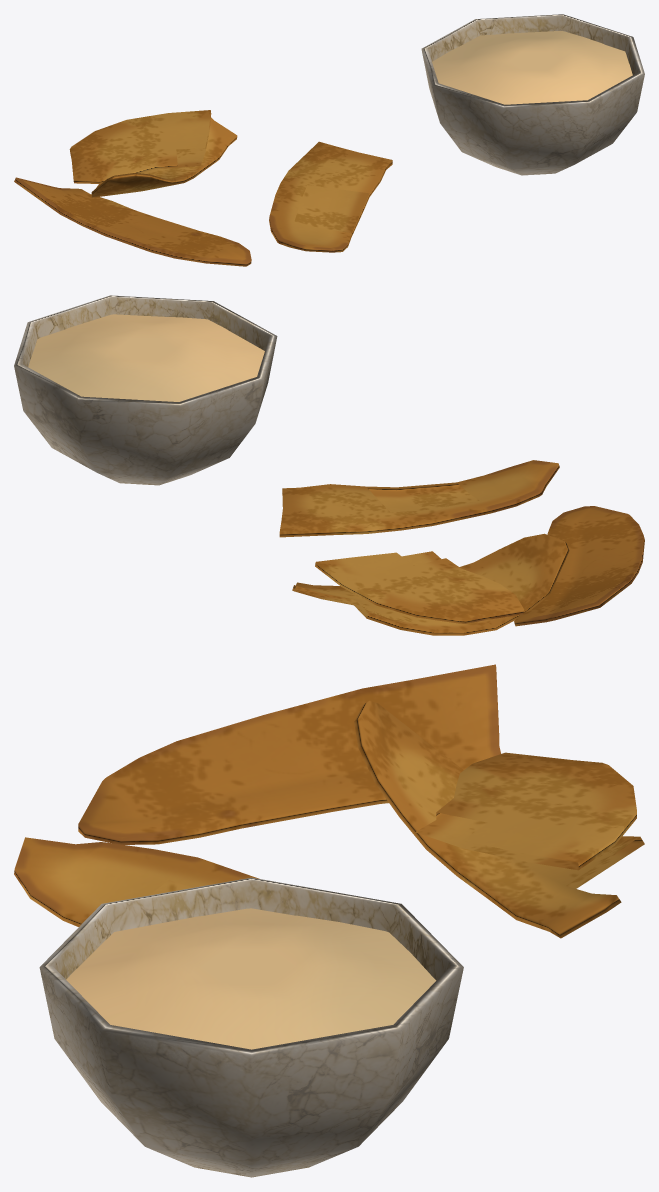
File: arracacha6.glb
3 views of the same model, one above another, from view 1: azimuth 30°, elevation 25°; view 2: azimuth 150°, elevation 25°; view 3: azimuth 270°, elevation 25° (orthographic). The views are drawn at different scales.
Parts seen in each view (by area): view 1: pDisc3, polySurface22; view 2: pDisc3, polySurface22; view 3: pDisc3, polySurface22.
Boxes of the visible parts, x1,y1,x2,y2 form: pDisc3: (421, 14, 644, 175); polySurface22: (14, 110, 392, 266); pDisc3: (14, 295, 277, 485); polySurface22: (279, 460, 644, 635); pDisc3: (39, 877, 463, 1177); polySurface22: (14, 664, 644, 938).
Bounding box in the file's own units: 1.91 × 0.3249 × 1.03.
3 materials, 3 textured.
